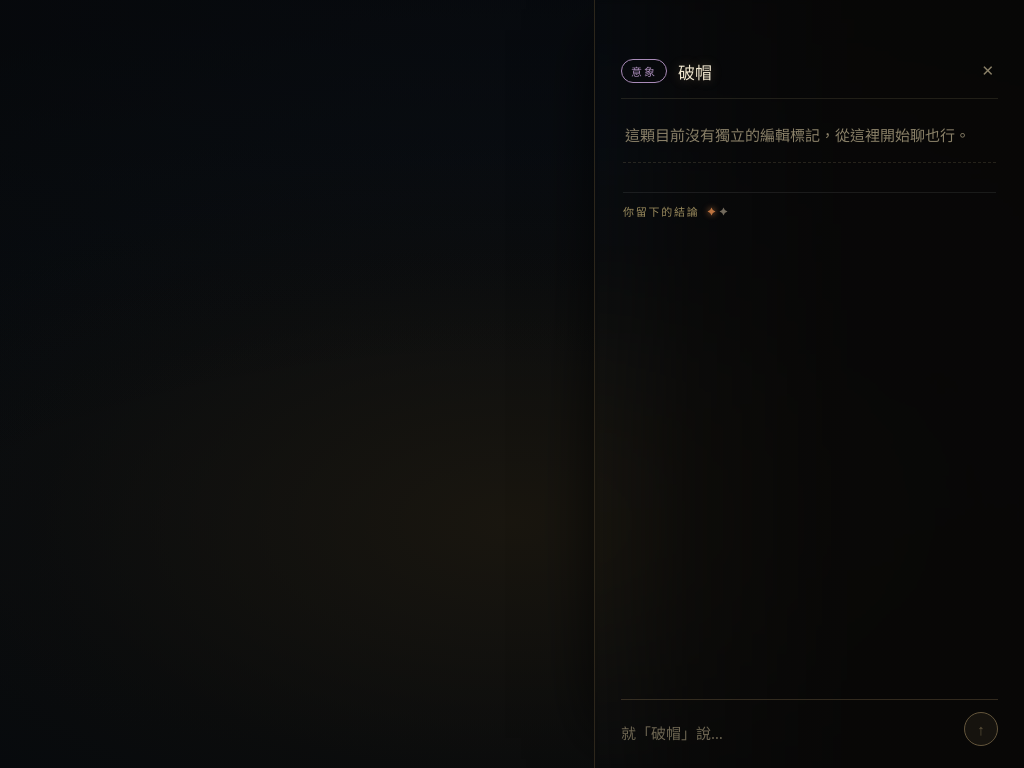
Test case: NodeTalk 餘燼塊 › 點把手展開:活在前冷在後、冷的帶 stale class
Click the button with class "talk-embers-h": (661, 212) [623,201,996,221]
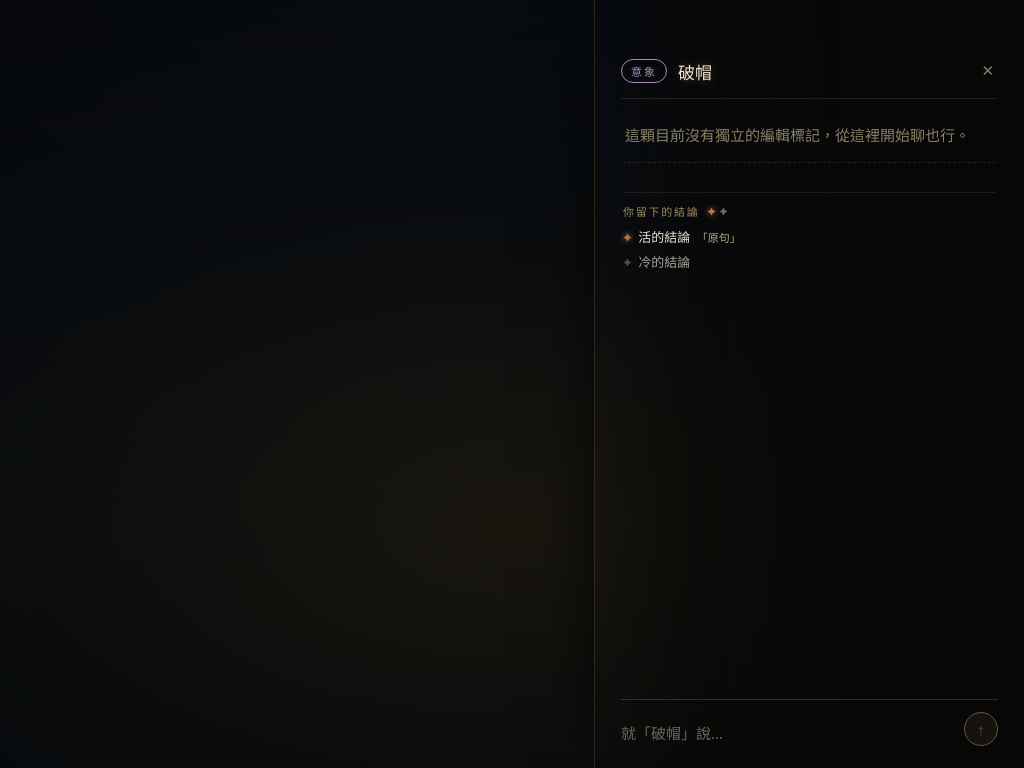
Expected: the text "活的結論" is shown, [638,227,690,246]
Expected: the text "冷的結論" is shown, [638,252,690,271]
